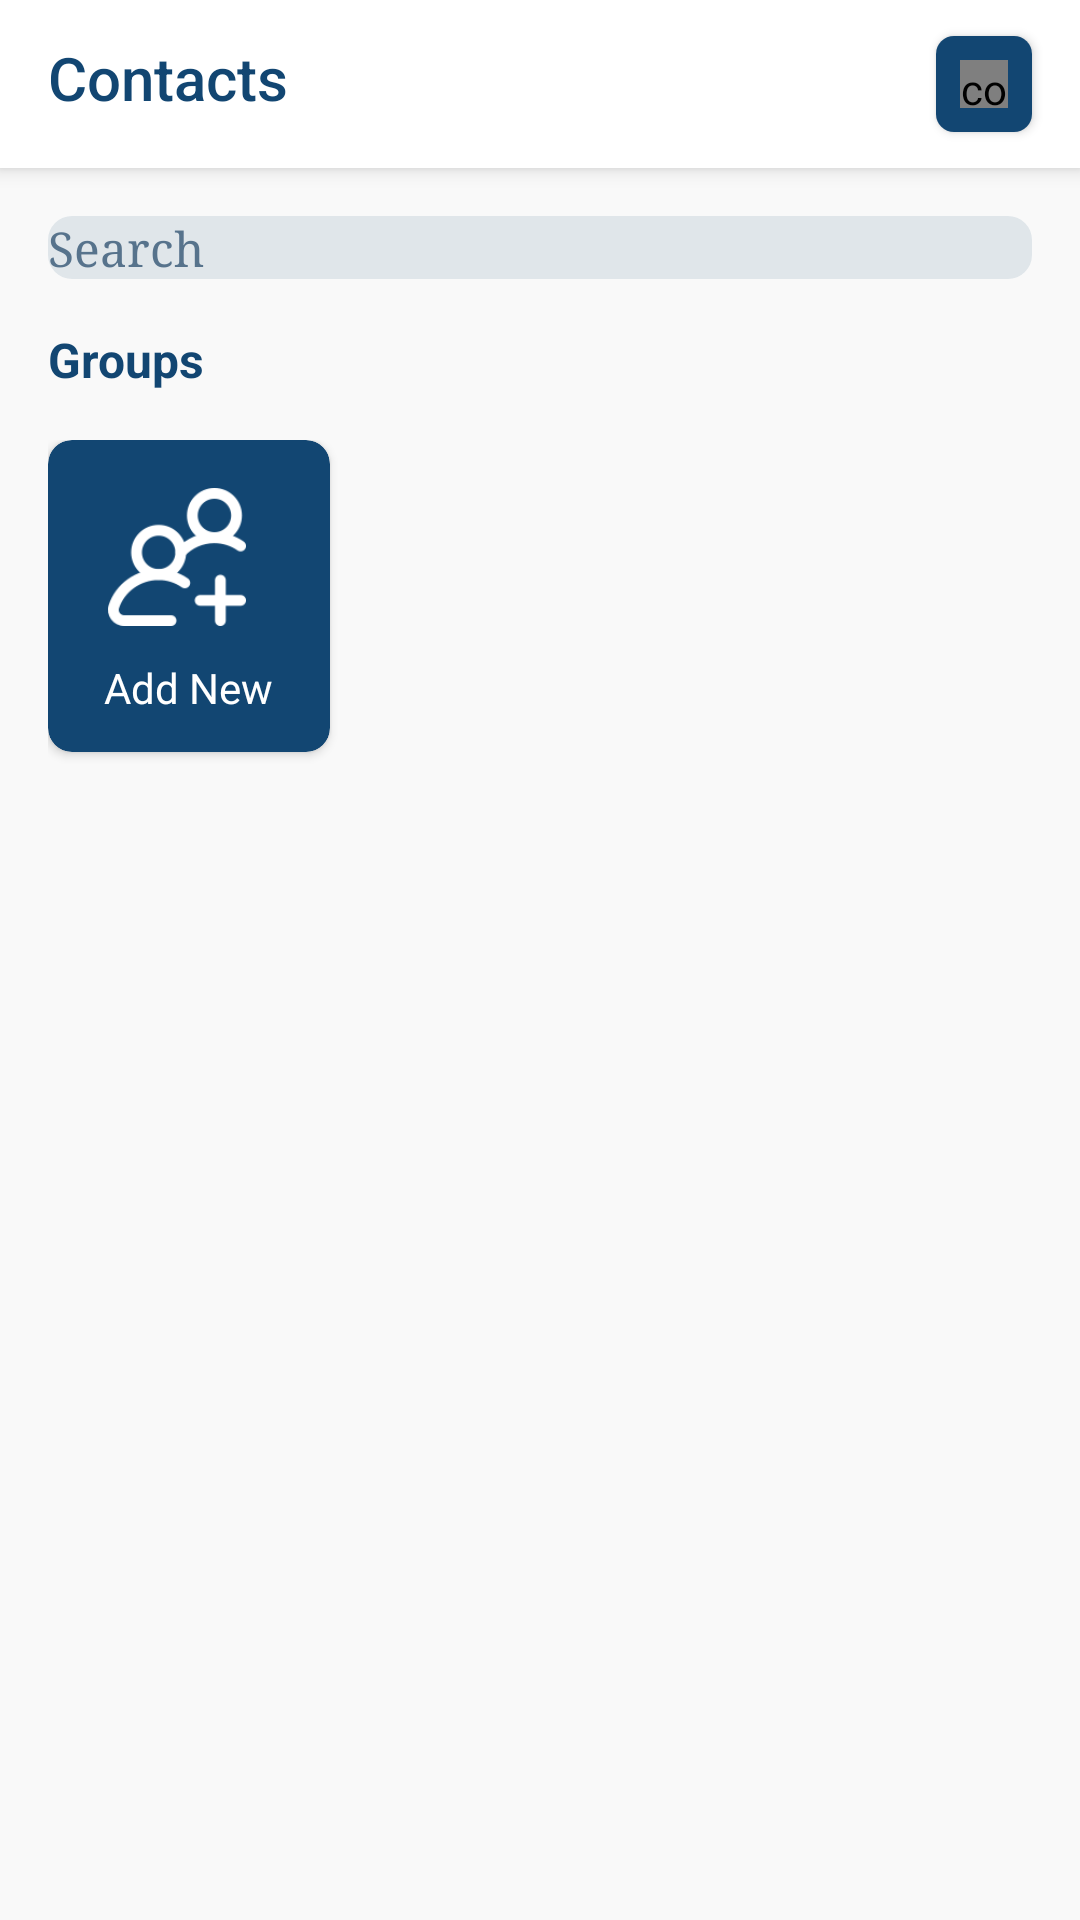

Named icons in this screenshot (1080 x 1920) and their centers, (x,y):
add group: (177,557)
